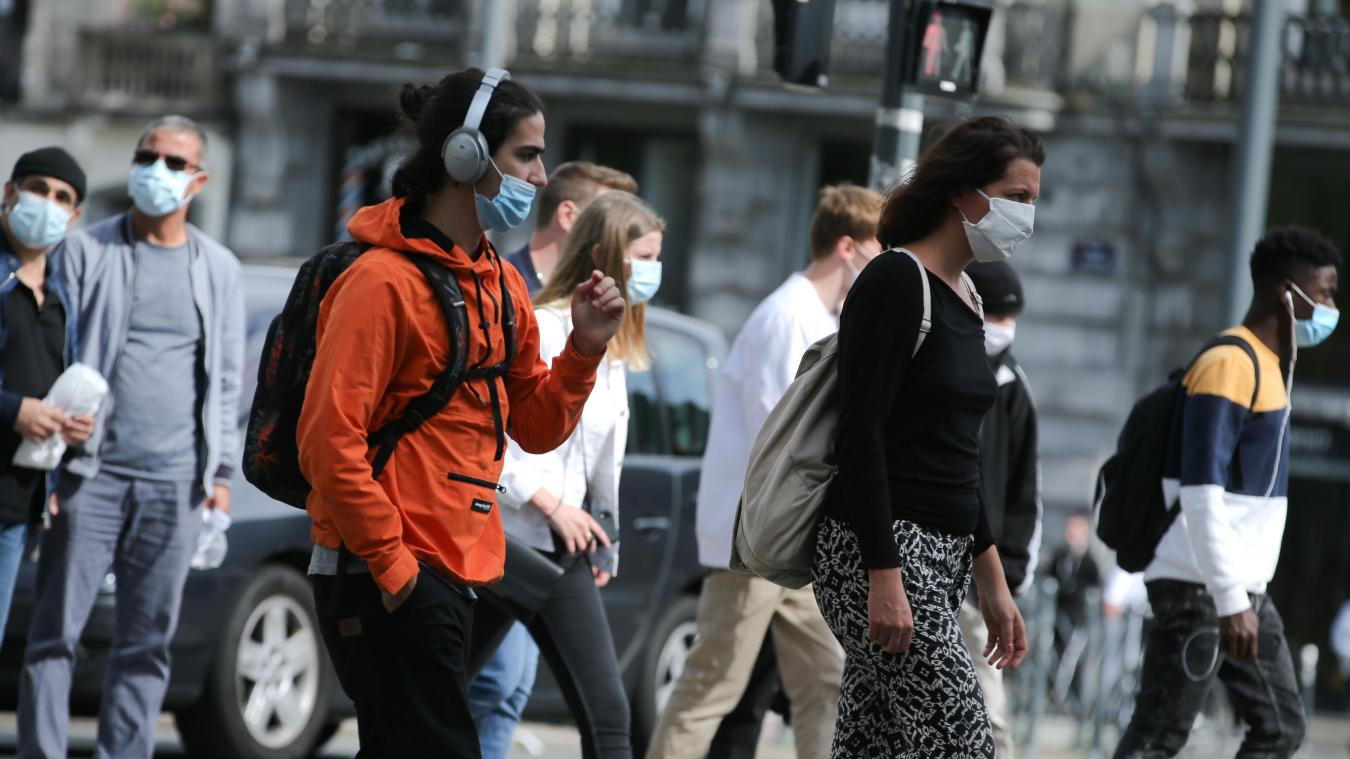with_incorrect_mask: (477, 120, 551, 240)
with_mask: (961, 157, 1045, 271), (5, 171, 78, 252), (132, 135, 200, 217), (615, 224, 667, 316), (1284, 276, 1343, 355)
